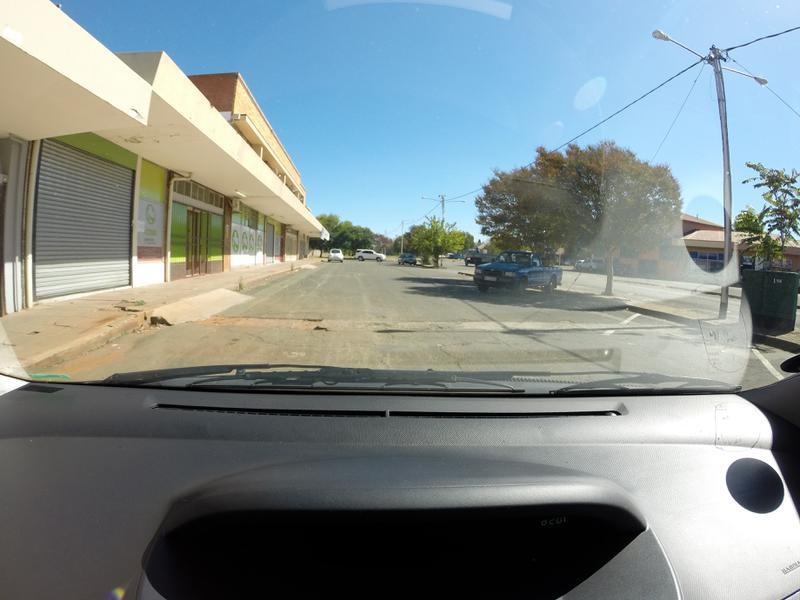pothole: (195, 315, 318, 328)
